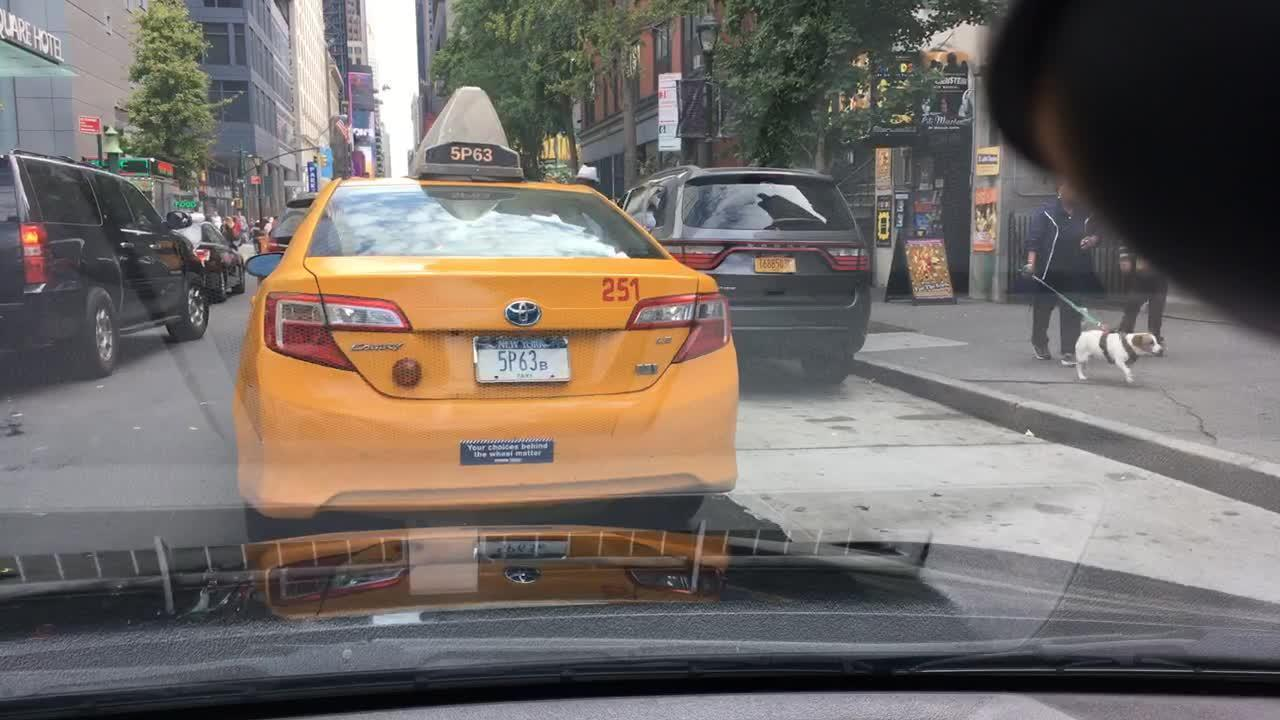Toyota: (500, 297, 545, 331)
dodge: (742, 238, 812, 257)
